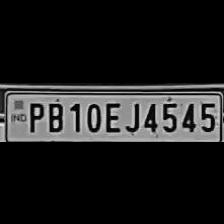0: (82, 99, 102, 131)
1: (66, 98, 82, 132)
4: (140, 98, 158, 132), (179, 98, 197, 132)
5: (158, 97, 178, 132), (197, 98, 217, 132)
B: (44, 98, 64, 132)
E: (101, 98, 121, 132)
J: (123, 97, 141, 131)
P: (24, 98, 44, 132)
